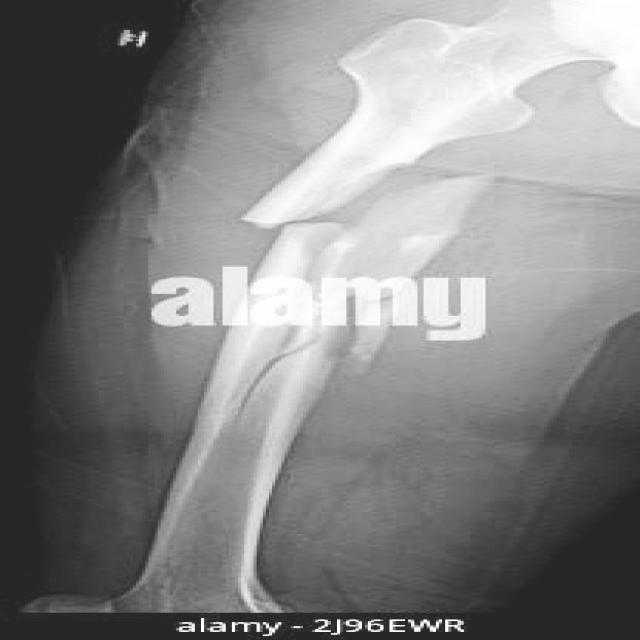Comminuted Fracture: (238, 301, 328, 422), (253, 203, 359, 256)
